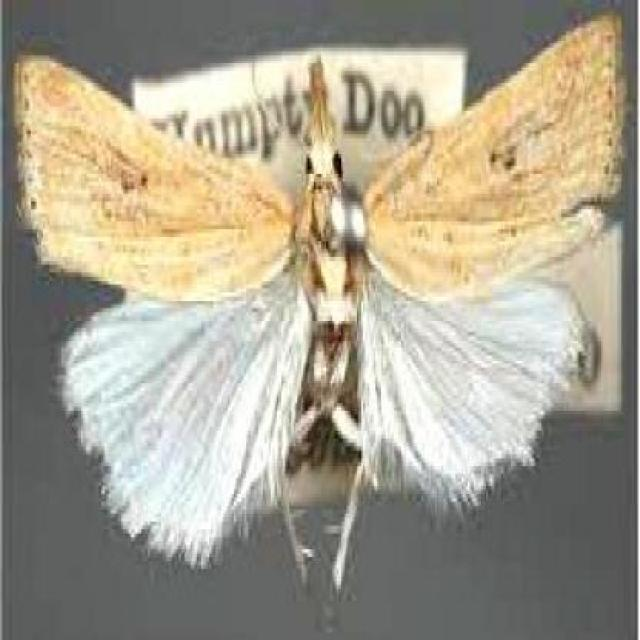stem-borer: (10, 8, 625, 594)
